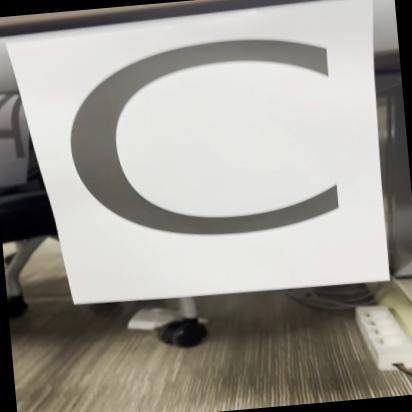seat: (24, 0, 409, 311)
